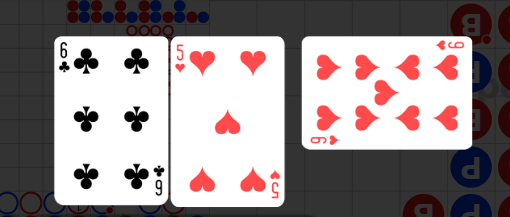5H: (269, 168, 282, 200)
6C: (151, 163, 165, 197)
9H: (434, 40, 465, 52)
